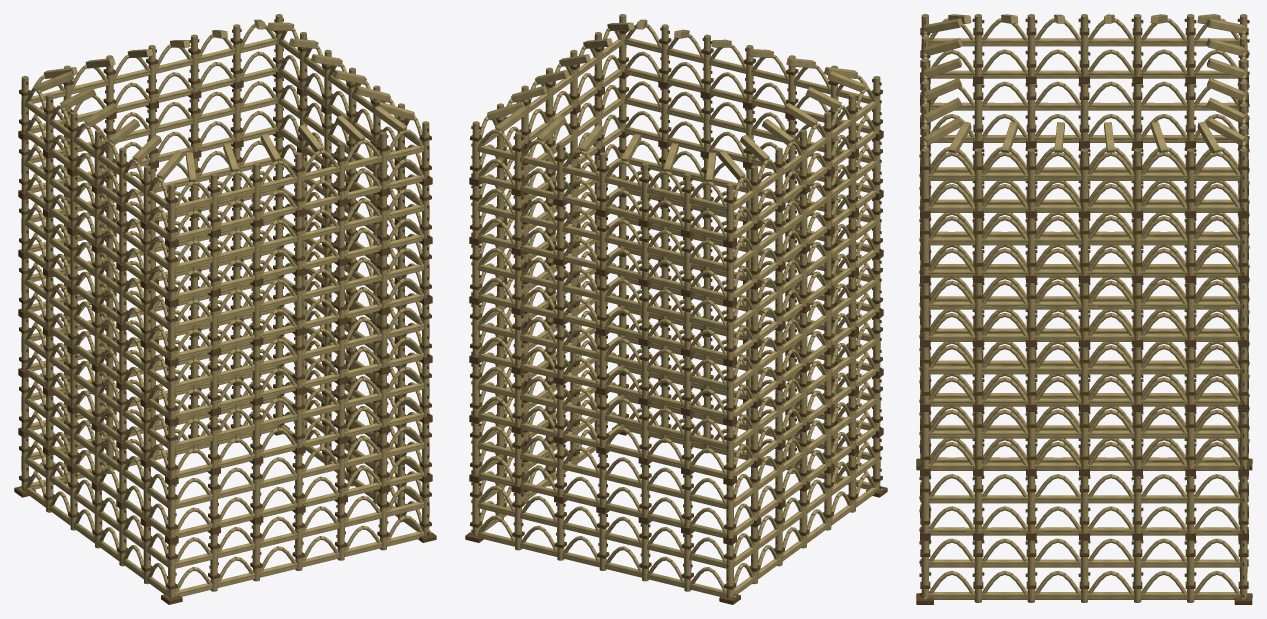
3 renders of one model, left to right at view 1: azimuth 30°, elevation 25°; view 2: azimuth 150°, elevation 25°; view 3: azimuth 270°, elevation 25°, orthographic. The views are drawn at different scales.
Visible parts, largest first — view 1: no part large enough to name; view 2: no part large enough to name; view 3: Tier 6 side 3 post 3, Tier 6 side 1 post 3, Tier 6 side 3 post 4, Tier 6 side 1 post 2, Tier 6 side 3 post 2, Tier 6 side 1 post 4, Tier 6 side 3 post 5, Tier 0 side 1 post 3, Tier 0 side 1 post 2, Tier 6 side 1 post 1, Tier 6 side 3 post 1, Tier 0 side 1 post 4 (+3 smaller).
Part boxes in pixels (x1,y1,x2,y2): Tier 6 side 3 post 3: (1080, 14, 1088, 76); Tier 6 side 1 post 3: (1080, 148, 1088, 210); Tier 6 side 3 post 4: (1027, 14, 1035, 76); Tier 6 side 1 post 2: (1027, 148, 1035, 210); Tier 6 side 3 post 2: (1133, 14, 1141, 76); Tier 6 side 1 post 4: (1133, 148, 1141, 210); Tier 6 side 3 post 5: (974, 14, 982, 76); Tier 0 side 1 post 3: (1080, 540, 1088, 602); Tier 0 side 1 post 2: (1027, 540, 1035, 602); Tier 6 side 1 post 1: (974, 148, 982, 210); Tier 6 side 3 post 1: (1186, 14, 1194, 76); Tier 0 side 1 post 4: (1133, 540, 1141, 602).
Size of the model in its own units: 2.85 by 4.35 by 2.85.
2 materials, 2 textured.
